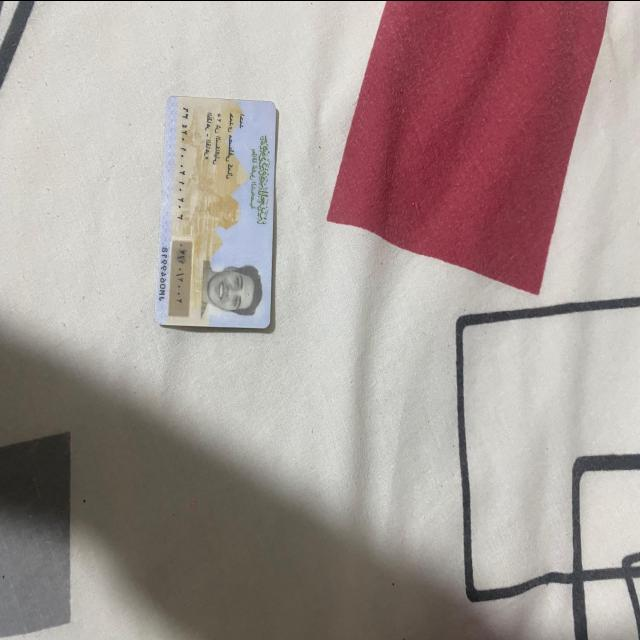id_card: (149, 86, 281, 334)
